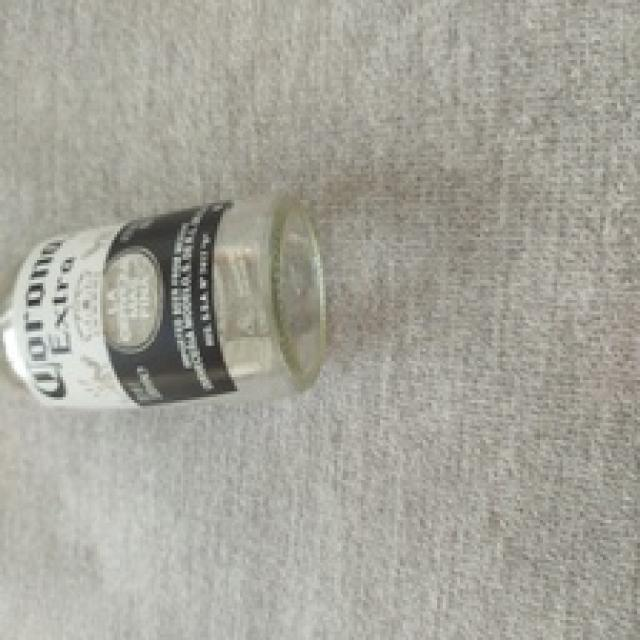Glass: (0, 188, 341, 408)
